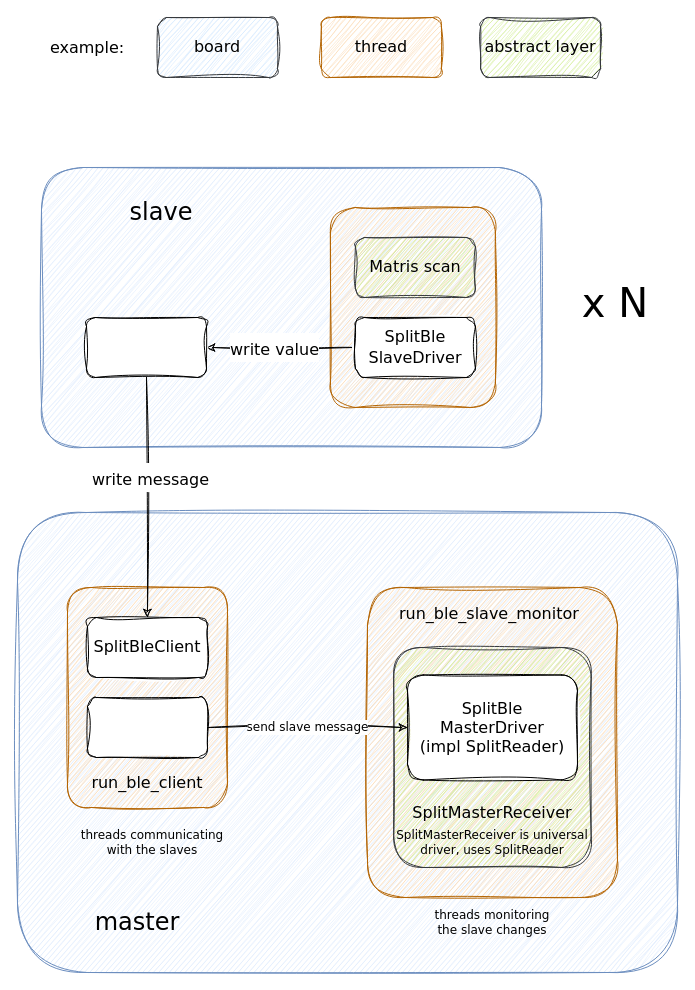
Some shapes in this 695 by 990 pixel diagram are drawn without their labels. Each missing label, with the centre of its shape:
sender: point (147, 727)
SplitBleServer: point (146, 347)
